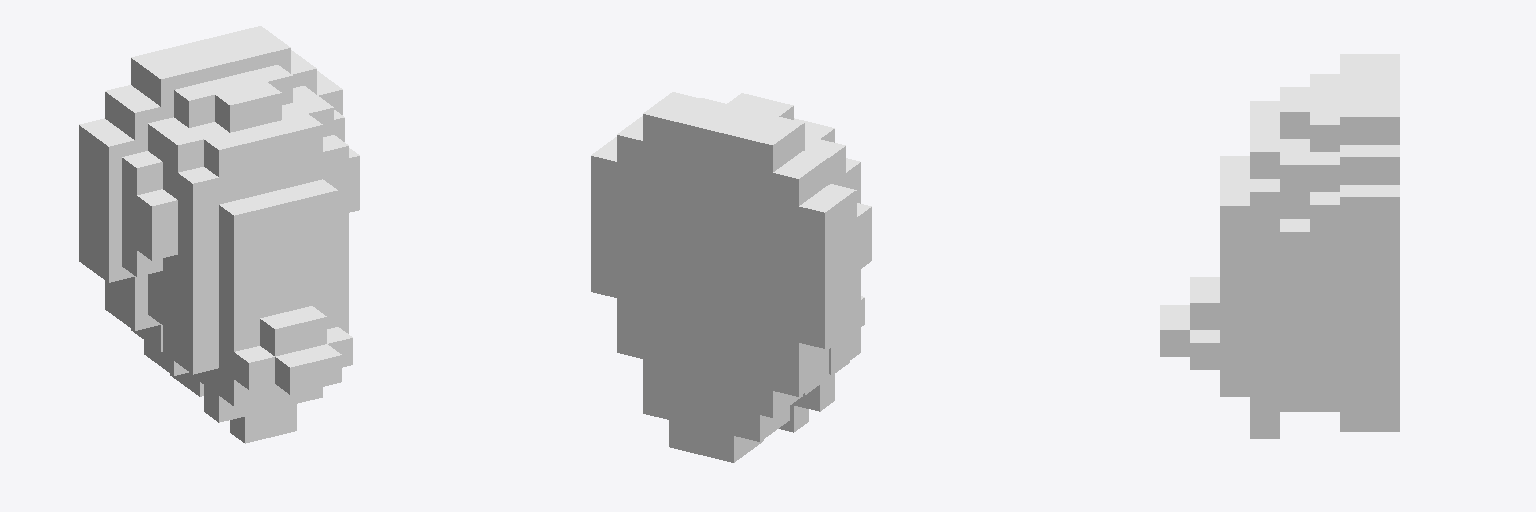
Rendered from poliwag-icon-0.obj.
3 renders of one model, left to right at view 1: azimuth 30°, elevation 25°; view 2: azimuth 150°, elevation 25°; view 3: azimuth 270°, elevation 25°, orthographic.
Visible parts, largest first — view 1: object 1; view 2: object 1; view 3: object 1.
Boxes of the visible parts, x1,y1,x2,y2 form: object 1: [79, 26, 359, 443]; object 1: [591, 92, 871, 462]; object 1: [1160, 54, 1399, 438].
Bounding box in the file's own units: 1.8 × 2.5 × 1.6.